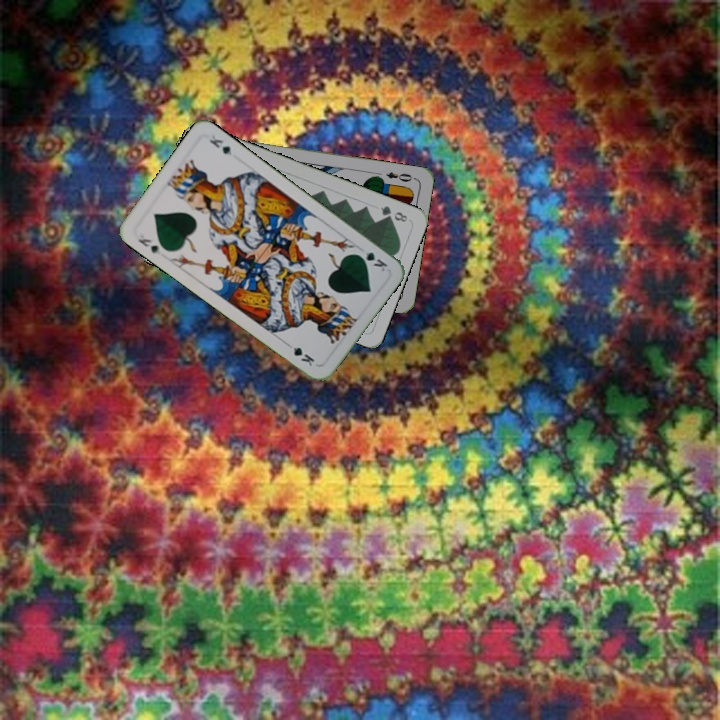EO: (382, 168, 418, 184)
G8: (376, 202, 410, 225)
GK: (352, 243, 390, 274), (133, 228, 163, 257)
